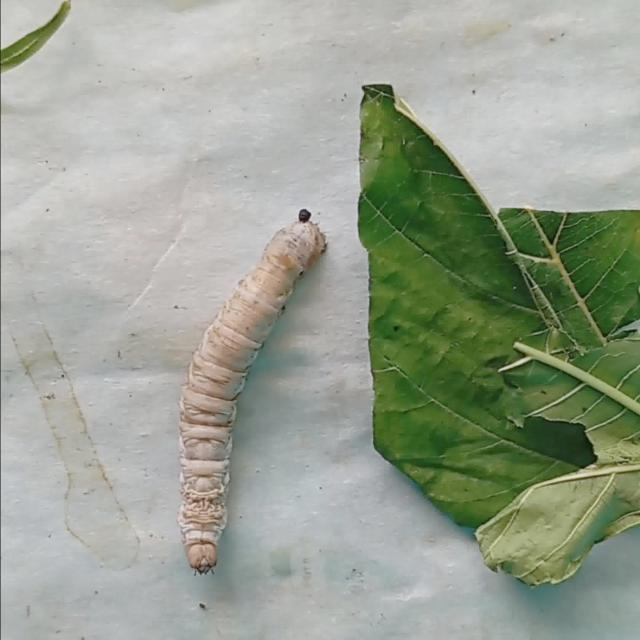Grasserie: (160, 198, 338, 580)
